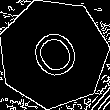O_SE: (22, 21, 85, 87)
